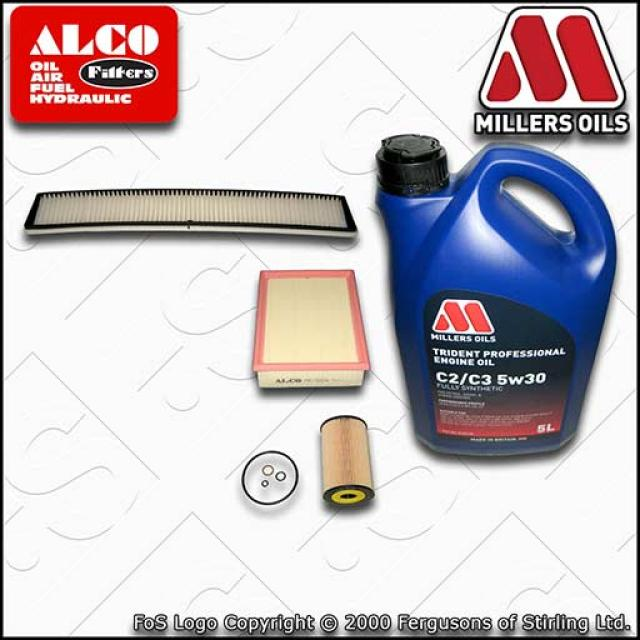air_filter: (26, 185, 361, 242), (249, 262, 371, 393)
motor_oil: (374, 132, 640, 457)
oil_filter: (312, 413, 384, 510)
